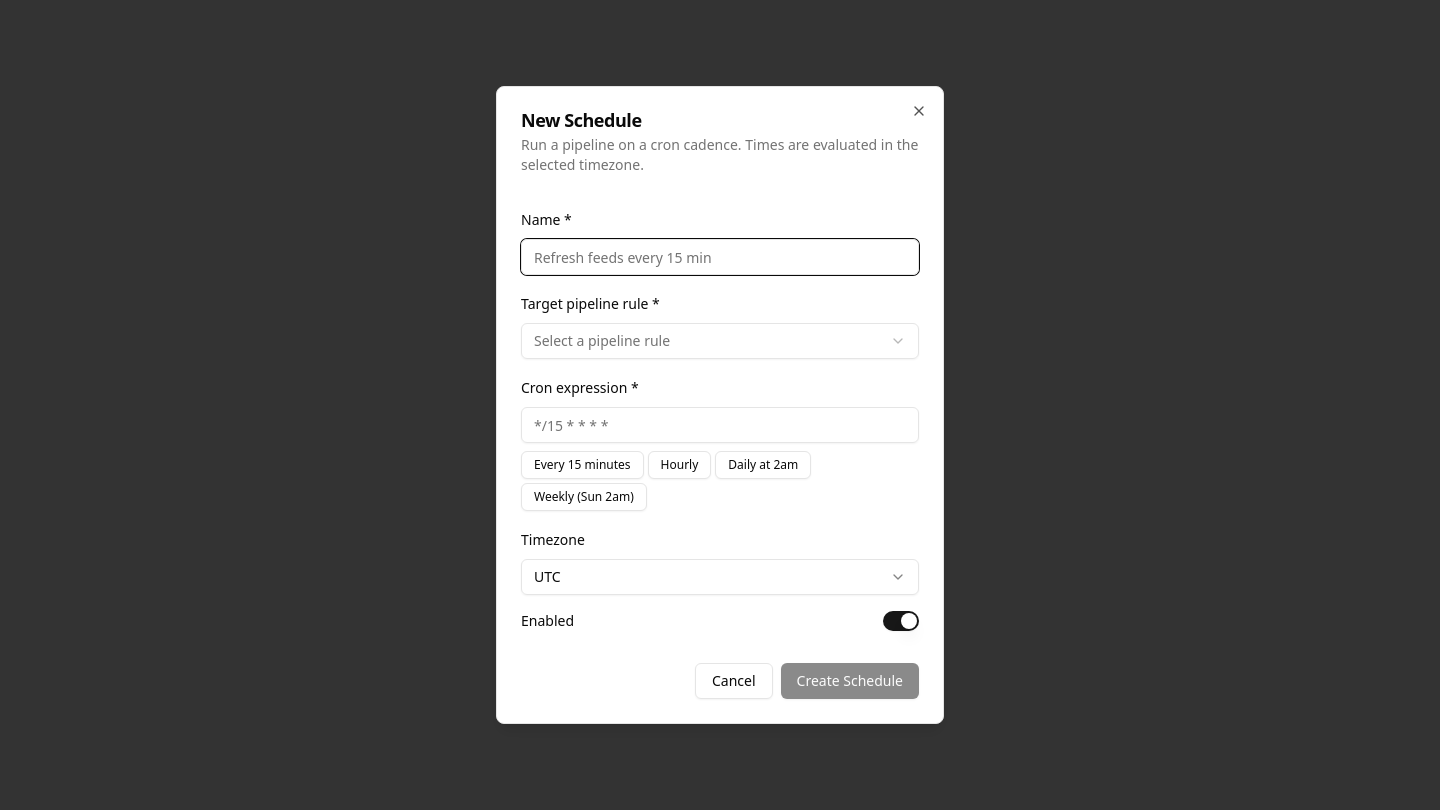
Test: ScheduleFormDialog › applies a preset to the cron field
Click the button "Hourly" at (680, 465), box [648,451,711,479]
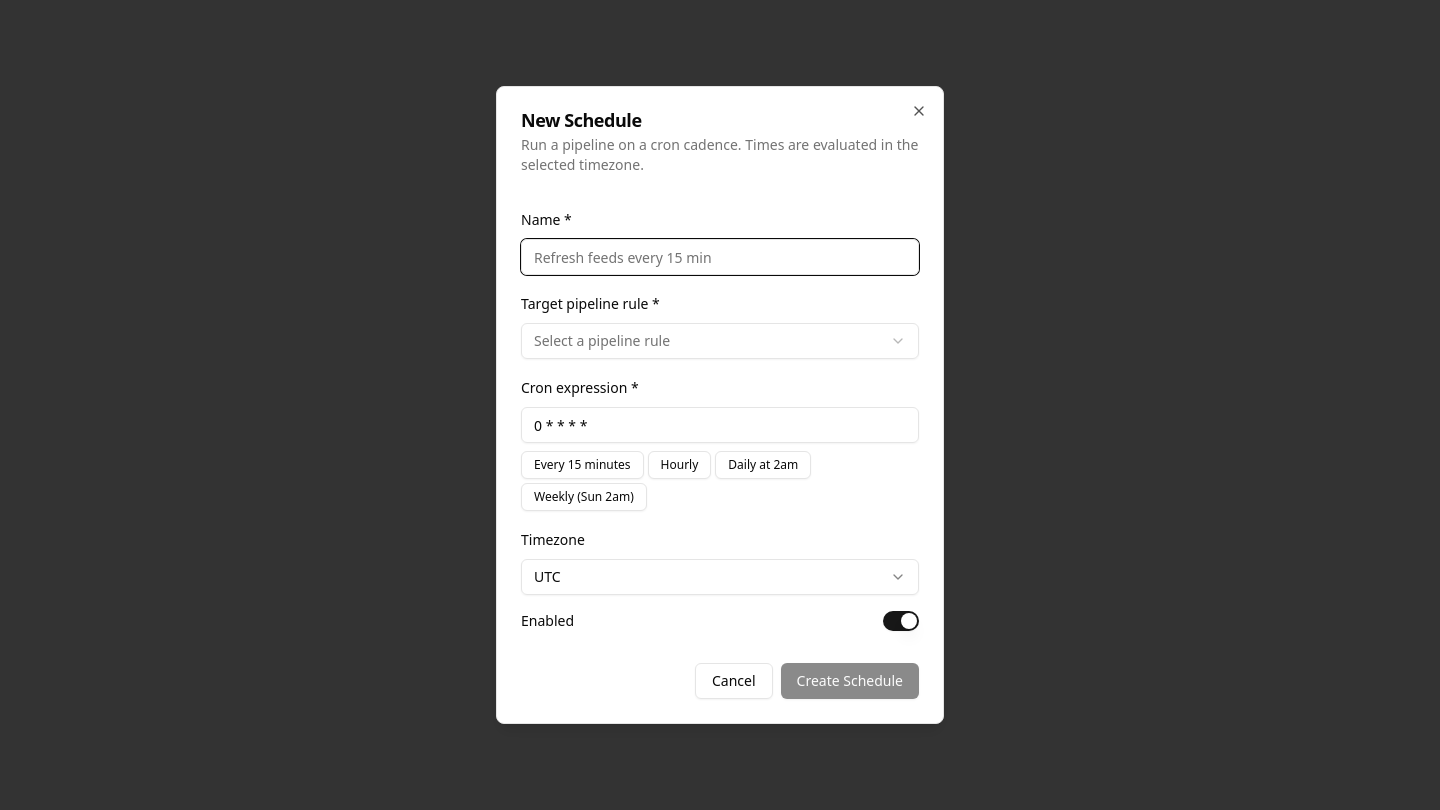
Expected: the field labelled "Cron expression *" holds "0 * * * *", [521,407,919,443]
